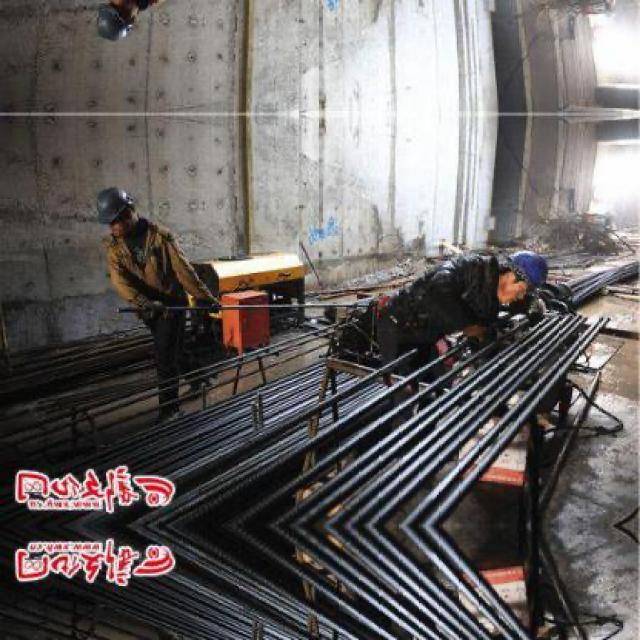helmet: (492, 250, 554, 304), (90, 182, 142, 233), (91, 0, 143, 48)
